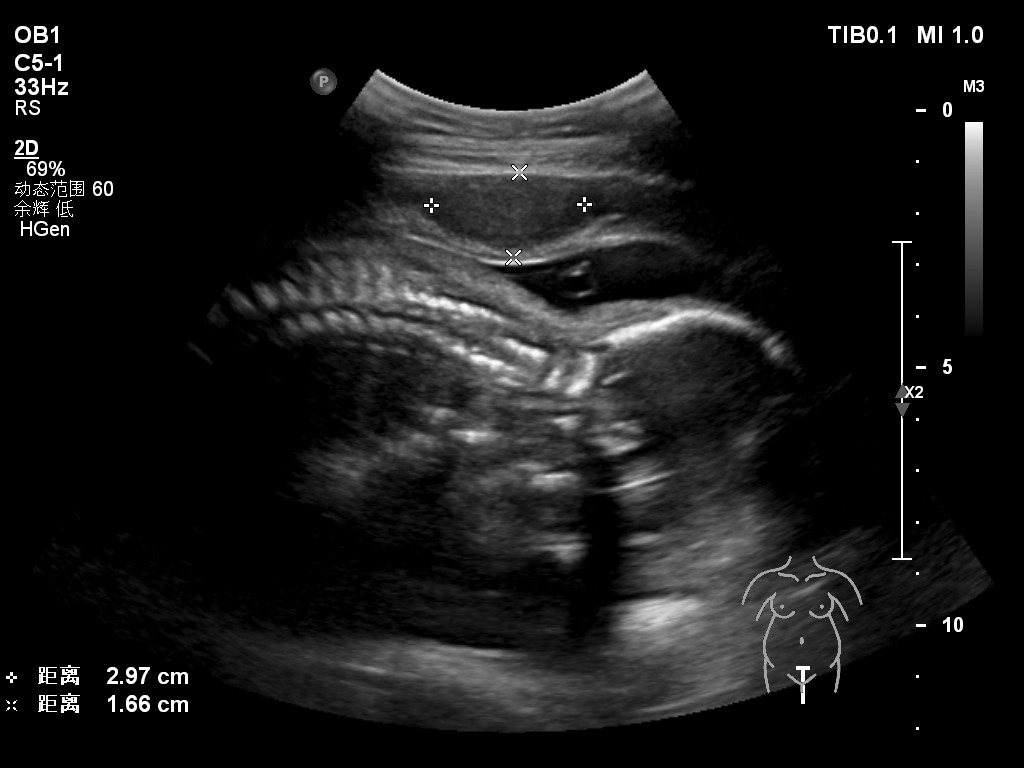肌瘤: (429, 179, 594, 242)
